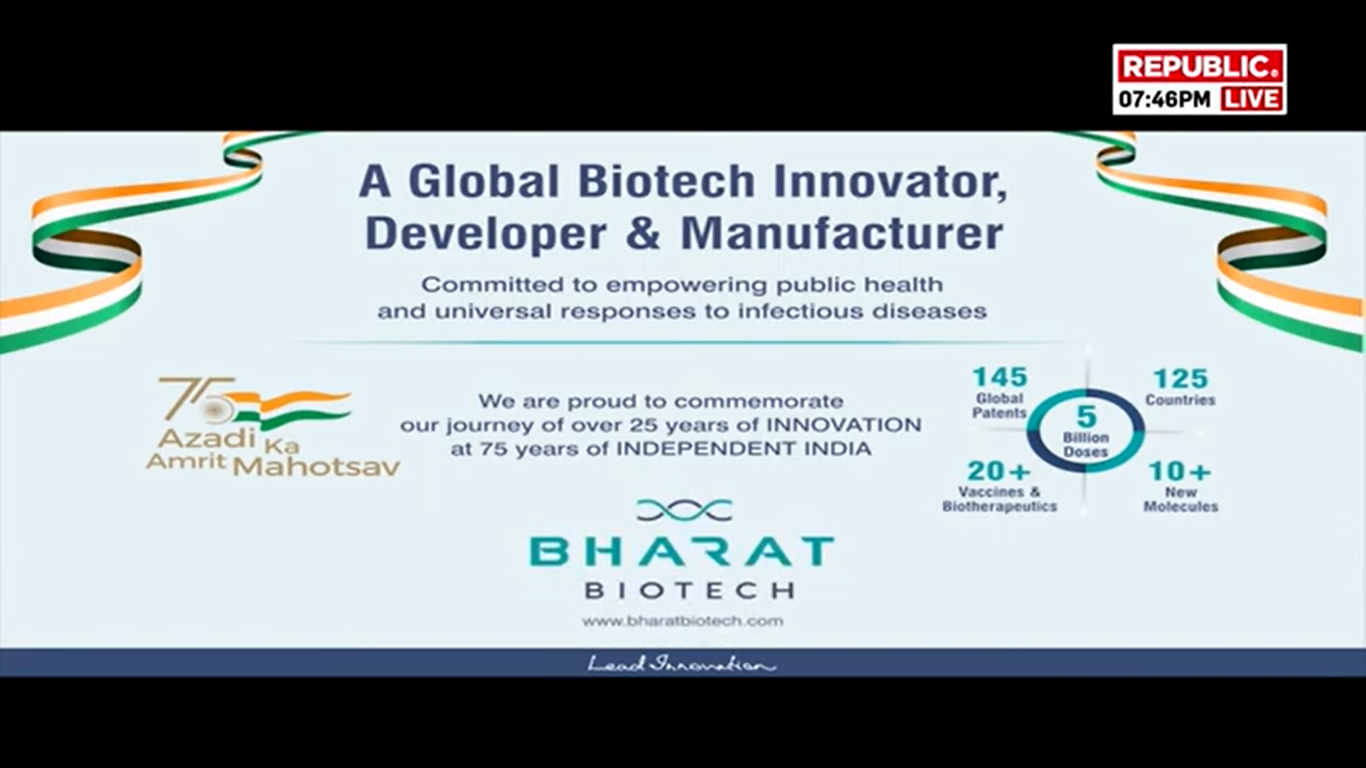bharatBiotec: (509, 504, 836, 609)
